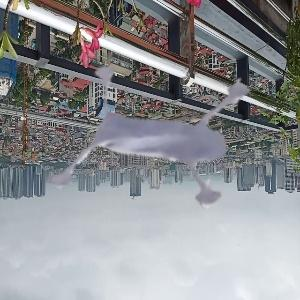drone: (9, 8, 295, 294)
